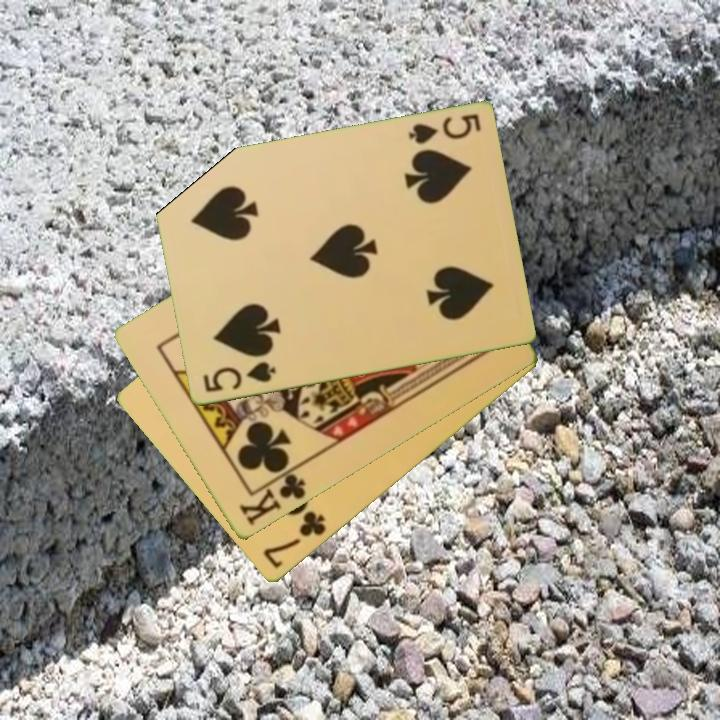5s: (199, 358, 279, 396), (404, 111, 484, 148)
7c: (260, 507, 330, 572)
Kc: (235, 463, 309, 529)
